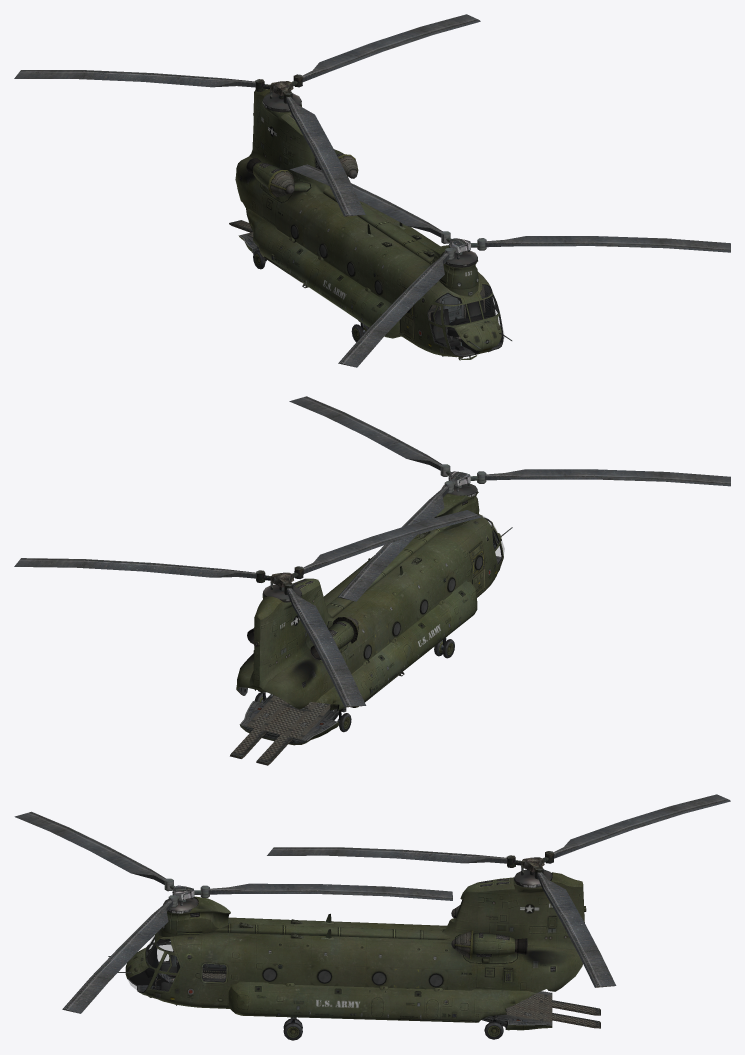
File: chinook.glb
3 views of the same model, one above another, from view 1: azimuth 30°, elevation 25°; view 2: azimuth 150°, elevation 25°; view 3: azimuth 270°, elevation 25° (orthographic).
Parts seen in each view (by area): view 1: Object_3, Object_7, Object_6, Object_2, Object_8, Object_9; view 2: Object_3, Object_7, Object_6, Object_5, Object_9, Object_8; view 3: Object_3, Object_7, Object_6, Object_5, Object_9, Object_8, Object_2.
Part boxes in pixels (bbox=[...]): Object_3: bbox=[235, 89, 512, 360]; Object_7: bbox=[14, 14, 480, 216]; Object_6: bbox=[290, 164, 730, 367]; Object_2: bbox=[318, 246, 504, 356]; Object_8: bbox=[255, 74, 361, 216]; Object_9: bbox=[338, 231, 486, 367]; Object_3: bbox=[230, 483, 512, 765]; Object_7: bbox=[14, 510, 481, 706]; Object_6: bbox=[289, 396, 730, 601]; Object_5: bbox=[231, 688, 330, 765]; Object_9: bbox=[338, 464, 486, 600]; Object_8: bbox=[256, 566, 361, 707]; Object_3: bbox=[108, 869, 600, 1040]; Object_7: bbox=[267, 794, 730, 987]; Object_6: bbox=[14, 811, 452, 1013]; Object_5: bbox=[202, 973, 600, 1028]; Object_9: bbox=[62, 878, 452, 1013]; Object_8: bbox=[506, 851, 614, 987]; Object_2: bbox=[128, 935, 173, 991].
Size of the model in its own units: 213 by 77.21 by 313.
Materials: 8 (8 with a texture image).
